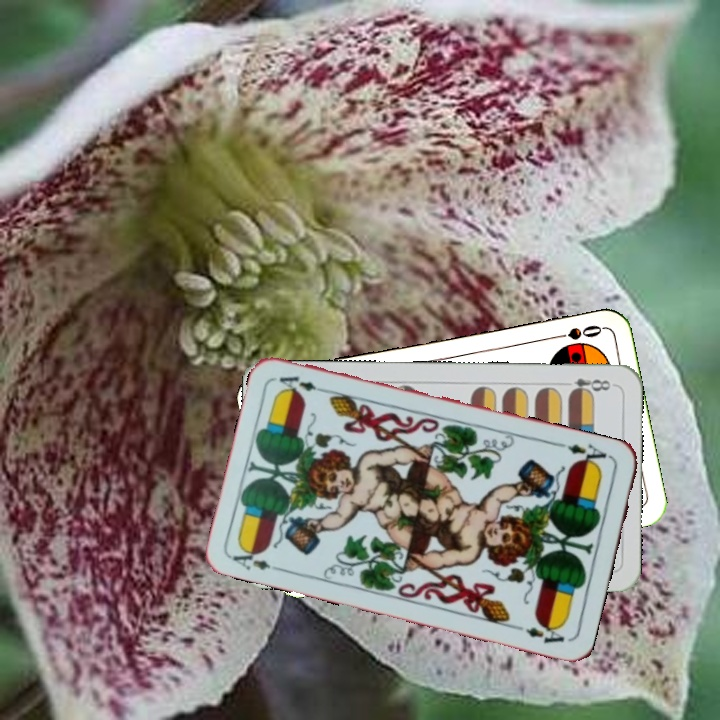E8: (557, 374, 613, 397)
EA: (228, 542, 286, 574), (563, 440, 614, 470)
SO: (546, 321, 605, 343)
